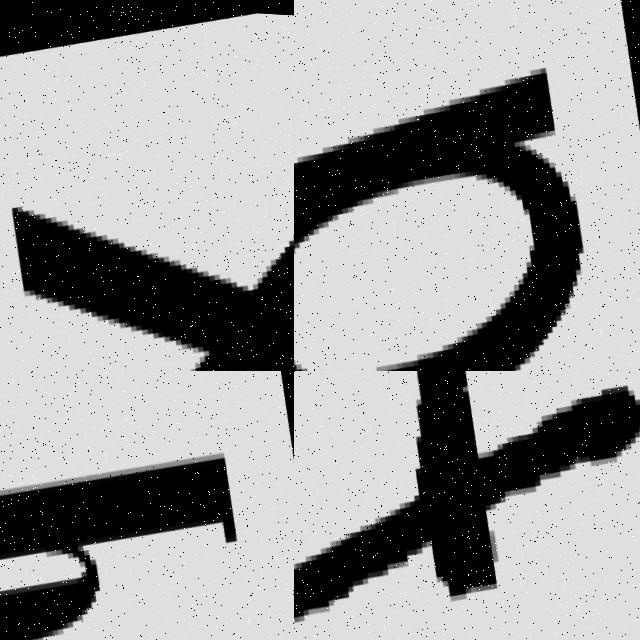D: (0, 403, 276, 640)
G: (294, 27, 640, 371)
T: (294, 371, 640, 640)
X: (0, 26, 294, 371)
